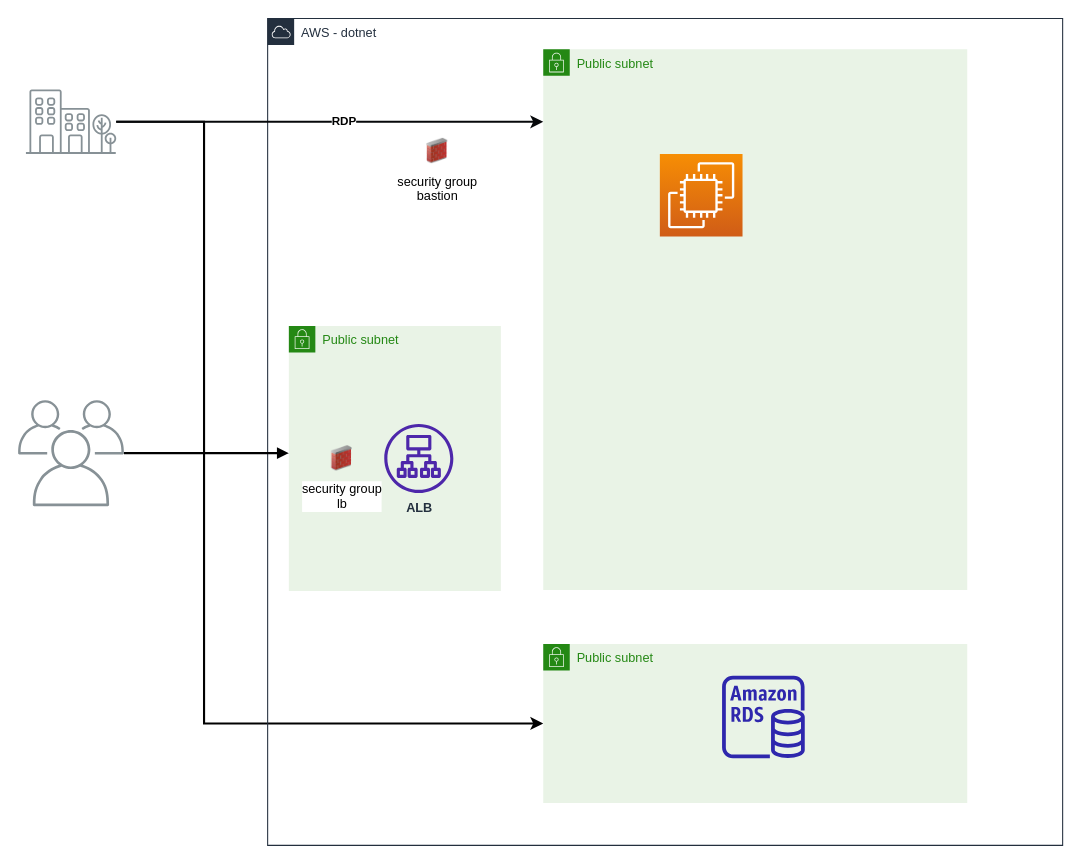
Some shapes in this 1081 by 864 pixel diagram are drawn without their labels. The shapes that lost their labels are listed below. From the top down, each one's centre as x and y in pixels, then its label:
At point 70,121: "Skyone - VPN".
At point 70,453: "Clientes".
At point 763,716: "SQL Server".
